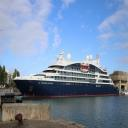cruises: (13, 49, 120, 101)
